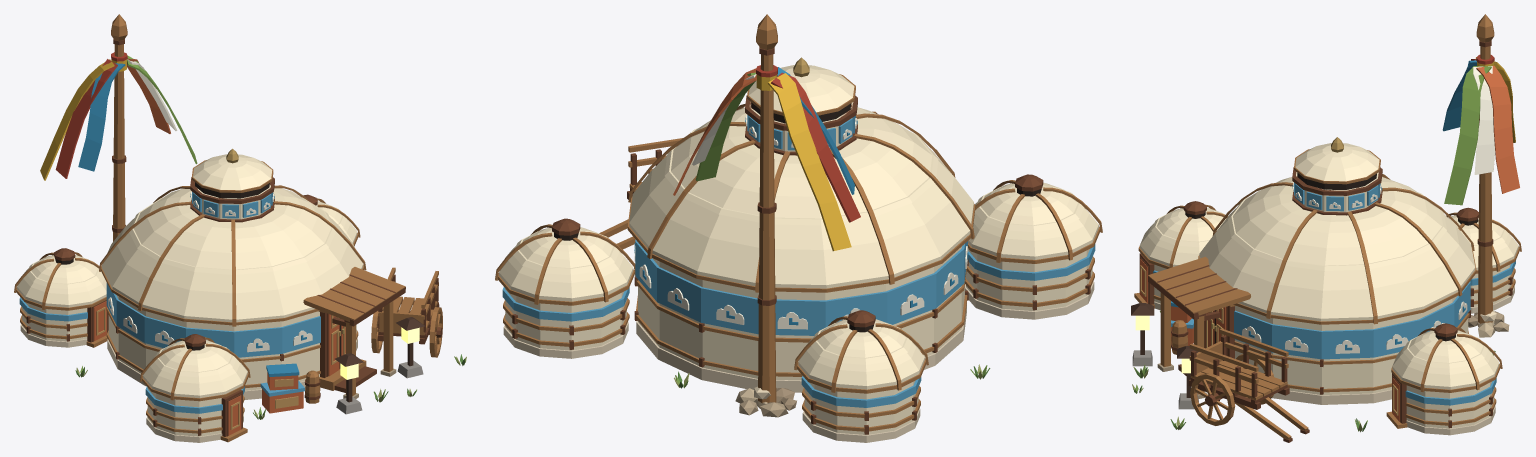
The model's file is yurt_market.glb.
3 renders of one model, left to right at view 1: azimuth 30°, elevation 25°; view 2: azimuth 150°, elevation 25°; view 3: azimuth 270°, elevation 25°, orthographic. The views are drawn at different scales.
Parts seen in each view (by area): view 1: yurt_market_YM_FeltRoof, yurt_market_YM_WoodLight, yurt_market_YM_Felt, yurt_market_YM_Band, yurt_market_YM_Wood, yurt_market_YM_Door, yurt_market_YM_FeltSkirt, yurt_market_YM_DomeBlue, yurt_market_YM_ClothRed, yurt_market_YM_Porcelain, yurt_market_YM_RibbonYellow, yurt_market_YM_Ochre (+7 smaller); view 2: yurt_market_YM_FeltRoof, yurt_market_YM_WoodLight, yurt_market_YM_Felt, yurt_market_YM_Band, yurt_market_YM_FeltSkirt, yurt_market_YM_Wood, yurt_market_YM_RibbonYellow, yurt_market_YM_Porcelain, yurt_market_YM_ClothRed, yurt_market_YM_LeafFreshLight, yurt_market_YM_RoofTerracottaLight, yurt_market_YM_Dark (+2 smaller); view 3: yurt_market_YM_FeltRoof, yurt_market_YM_WoodLight, yurt_market_YM_Felt, yurt_market_YM_Band, yurt_market_YM_Wood, yurt_market_YM_Porcelain, yurt_market_YM_LeafFreshLight, yurt_market_YM_RoofTerracottaLight, yurt_market_YM_FeltSkirt, yurt_market_YM_Door, yurt_market_YM_Dark, yurt_market_YM_DomeBlue (+5 smaller).
Part boxes in pixels (x1,y1,x2,y2): yurt_market_YM_FeltRoof: (17,154,363,398); yurt_market_YM_WoodLight: (14,14,442,442); yurt_market_YM_Felt: (22,185,356,436); yurt_market_YM_Band: (19,191,320,413); yurt_market_YM_Wood: (26,39,442,436); yurt_market_YM_Door: (94,301,345,435); yurt_market_YM_FeltSkirt: (20,324,357,442); yurt_market_YM_DomeBlue: (78,63,125,171); yurt_market_YM_ClothRed: (55,52,127,178); yurt_market_YM_Porcelain: (108,59,312,352); yurt_market_YM_RibbonYellow: (40,59,126,180); yurt_market_YM_Ochre: (96,307,345,429); yurt_market_YM_FeltRoof: (499,65,1098,389); yurt_market_YM_WoodLight: (495,14,1102,431); yurt_market_YM_Felt: (505,102,1092,434); yurt_market_YM_Band: (502,115,1095,407); yurt_market_YM_FeltSkirt: (503,281,1094,442); yurt_market_YM_Wood: (512,47,1090,434); yurt_market_YM_RibbonYellow: (756,73,851,251); yurt_market_YM_Porcelain: (634,74,968,329); yurt_market_YM_ClothRed: (756,65,860,222); yurt_market_YM_LeafFreshLight: (675,72,987,388); yurt_market_YM_RoofTerracottaLight: (673,68,756,195); yurt_market_YM_Dark: (554,102,1041,332); yurt_market_YM_FeltRoof: (1140,143,1518,389); yurt_market_YM_WoodLight: (1134,14,1521,439); yurt_market_YM_Felt: (1154,172,1513,428); yurt_market_YM_Band: (1153,182,1515,405); yurt_market_YM_Wood: (1139,40,1512,442); yurt_market_YM_Porcelain: (1242,66,1494,353); yurt_market_YM_LeafFreshLight: (1134,66,1491,431); yurt_market_YM_RoofTerracottaLight: (1476,65,1519,193); yurt_market_YM_FeltSkirt: (1154,286,1514,435); yurt_market_YM_Door: (1140,258,1399,421); yurt_market_YM_Dark: (1185,173,1478,341); yurt_market_YM_DomeBlue: (1442,60,1476,131).
Bounding box in the file's own units: 4.01 × 3.44 × 3.86.
